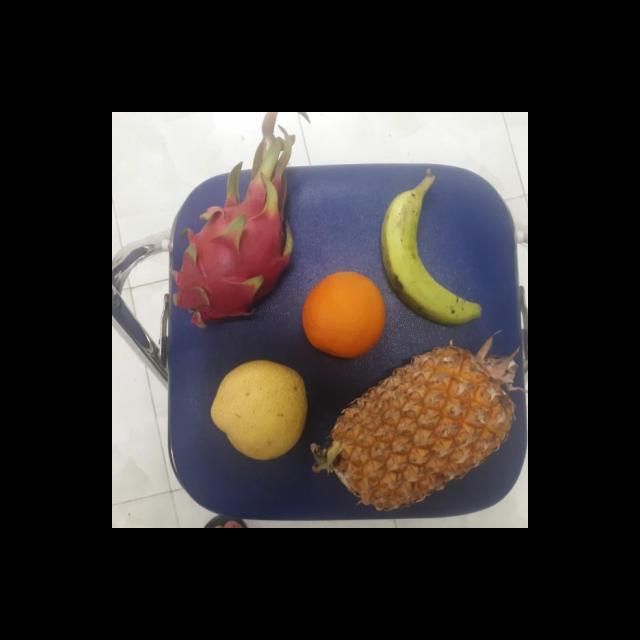banana: (379, 188, 488, 329)
orange: (301, 268, 386, 359)
pear: (207, 358, 311, 459)
pineapple: (334, 343, 518, 515)
pitaya: (172, 190, 296, 322)
